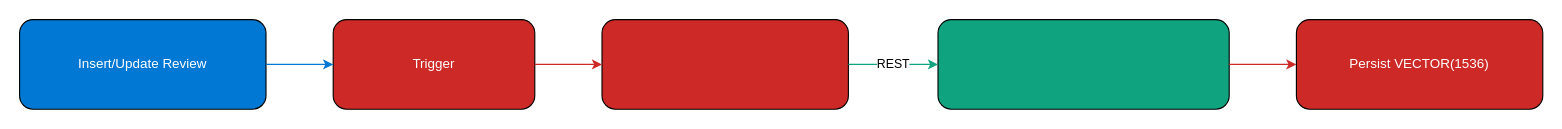
Image size: 1562x129. Some labels were removed from this diagram. Here are the shapes that lost their labels. From the top down, the centre of each, then its label:
At point 724,63: "dbo.get_embedding".
At point 1083,63: "Azure OpenAI\nEmbedding deployment".
